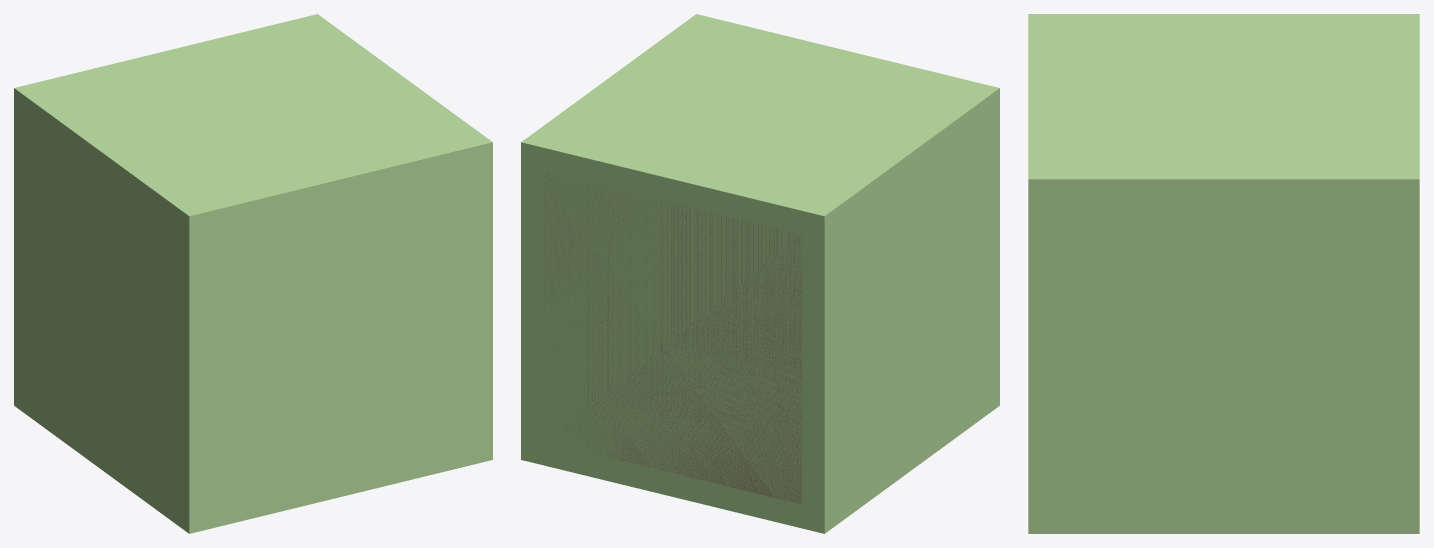
File: 65_mossflower.glb
3 views of the same model, side by side, from view 1: azimuth 30°, elevation 25°; view 2: azimuth 150°, elevation 25°; view 3: azimuth 270°, elevation 25° (orthographic). The views are drawn at different scales.
Visible parts, largest first — view 1: Core; view 2: Core, Soil; view 3: Core.
Boxes of the visible parts, x1,y1,x2,y2 form: Core: [14, 14, 492, 533]; Core: [521, 14, 999, 533]; Soil: [544, 173, 801, 503]; Core: [1028, 14, 1419, 533].
Bounding box in the file's own units: 1 × 1 × 1.
